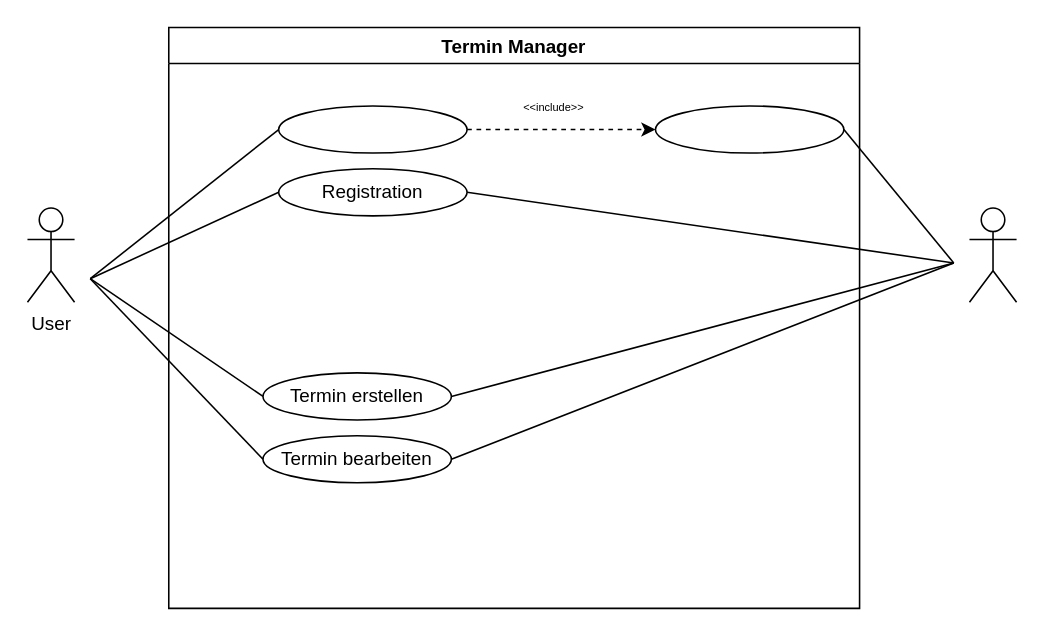
Image size: 1052x636. Some labels were removed from this diagram. The shapes that lost their labels are listed below. From the top down, each one's box as (x1, y1, x2, y2) in pixels, then its label:
(277, 104, 467, 153): Login
(654, 104, 844, 153): JWT
(968, 206, 1017, 302): System
